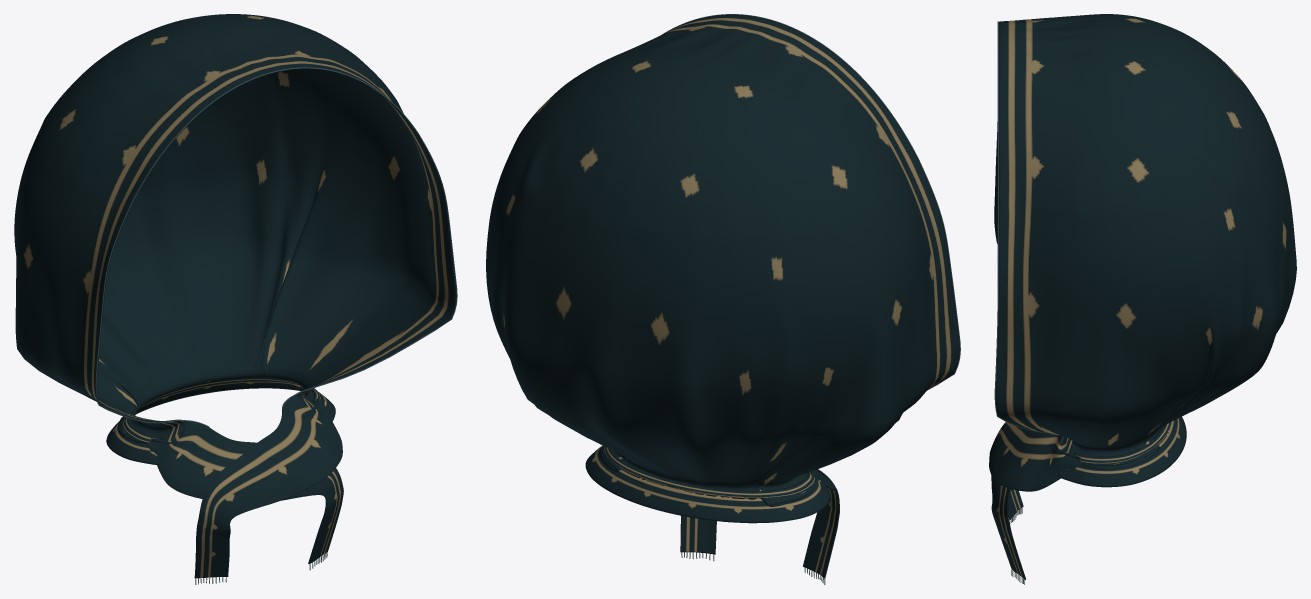
Rendered from Feminine-jersey-pashmina240-headgear.glb.
3 views of the same model, side by side, from view 1: azimuth 30°, elevation 25°; view 2: azimuth 150°, elevation 25°; view 3: azimuth 270°, elevation 25° (orthographic). The views are drawn at different scales.
Visible parts, largest first — view 1: 226 headgear / Headwear / continuous woven pashmina239, 226 headgear / Headwear / face edge239; view 2: 226 headgear / Headwear / continuous woven pashmina239, 226 headgear / Headwear / face edge239; view 3: 226 headgear / Headwear / continuous woven pashmina239, 226 headgear / Headwear / face edge239.
Boxes of the visible parts, x1,y1,x2,y2 form: 226 headgear / Headwear / continuous woven pashmina239: (14,14,456,578); 226 headgear / Headwear / face edge239: (95,67,457,427); 226 headgear / Headwear / continuous woven pashmina239: (486,14,959,578); 226 headgear / Headwear / face edge239: (662,14,960,389); 226 headgear / Headwear / continuous woven pashmina239: (989,14,1296,579); 226 headgear / Headwear / face edge239: (994,21,1046,432).
Bounding box in the file's own units: 1.02 × 1.35 × 0.7238.
3 materials, 1 textured.
